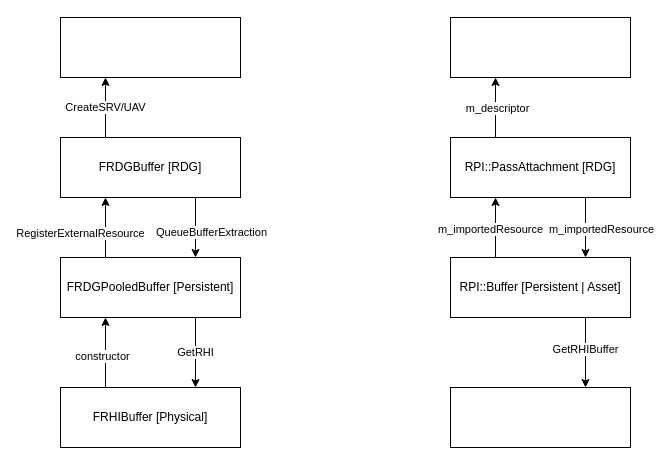
Image size: 671x465. Some labels were removed from this diagram. Each missing label, with the centre of its shape:
"FRDGBufferSRV/UAV [View]" belongs at point 150,47.
"RHI::Buffer [Physical]" belongs at point 540,417.
"RHI::BufferView [View]" belongs at point 540,47.
